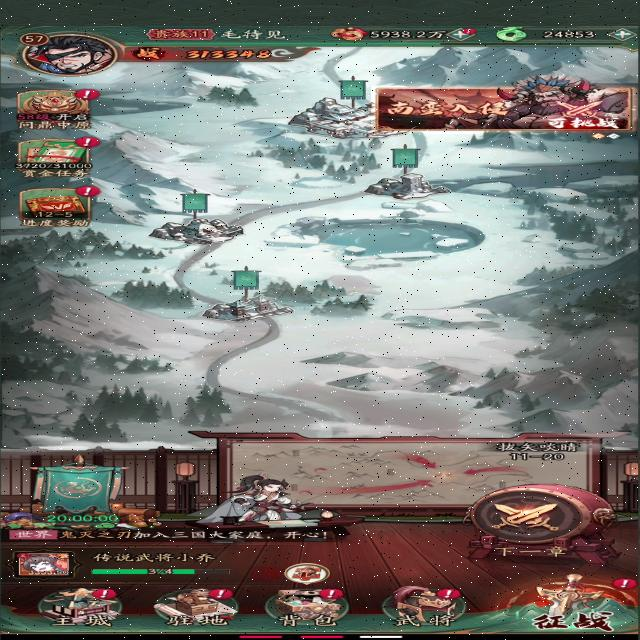hint-reddot: (590, 466, 626, 484), (453, 534, 488, 552), (203, 586, 238, 602), (330, 80, 362, 96), (68, 86, 104, 100), (314, 589, 350, 603), (68, 232, 100, 247), (90, 587, 121, 602), (597, 501, 627, 516), (434, 586, 464, 600), (600, 132, 627, 147), (66, 134, 96, 147), (613, 320, 640, 334), (614, 576, 640, 590), (456, 27, 484, 37)
navigation-DailyDiscount: (535, 131, 630, 179)
navigation-bag: (261, 583, 358, 629)
navigation-community: (548, 438, 618, 468)
navigation-dianjiangtai: (486, 404, 536, 449)
navigation-fight: (493, 574, 640, 637)
navigation-friends: (410, 534, 479, 571)
navigation-hero: (367, 582, 475, 632)
navigation-juntuan-on: (240, 258, 277, 310)
navigation-juxianting: (198, 376, 245, 422)
navigation-mail: (553, 503, 621, 537)
navigation-main: (14, 584, 140, 634)
navigation-rank: (484, 536, 552, 572)
navigation-role: (19, 28, 124, 82)
navigation-shop-on: (254, 470, 288, 513)
navigation-station-on: (148, 584, 251, 632)
navigation-treasureMall: (13, 84, 99, 130)
navigation-welfare: (15, 134, 98, 177)
navigation-zhenbaoge-off: (431, 287, 483, 343)
operation-close: (567, 544, 609, 562)
